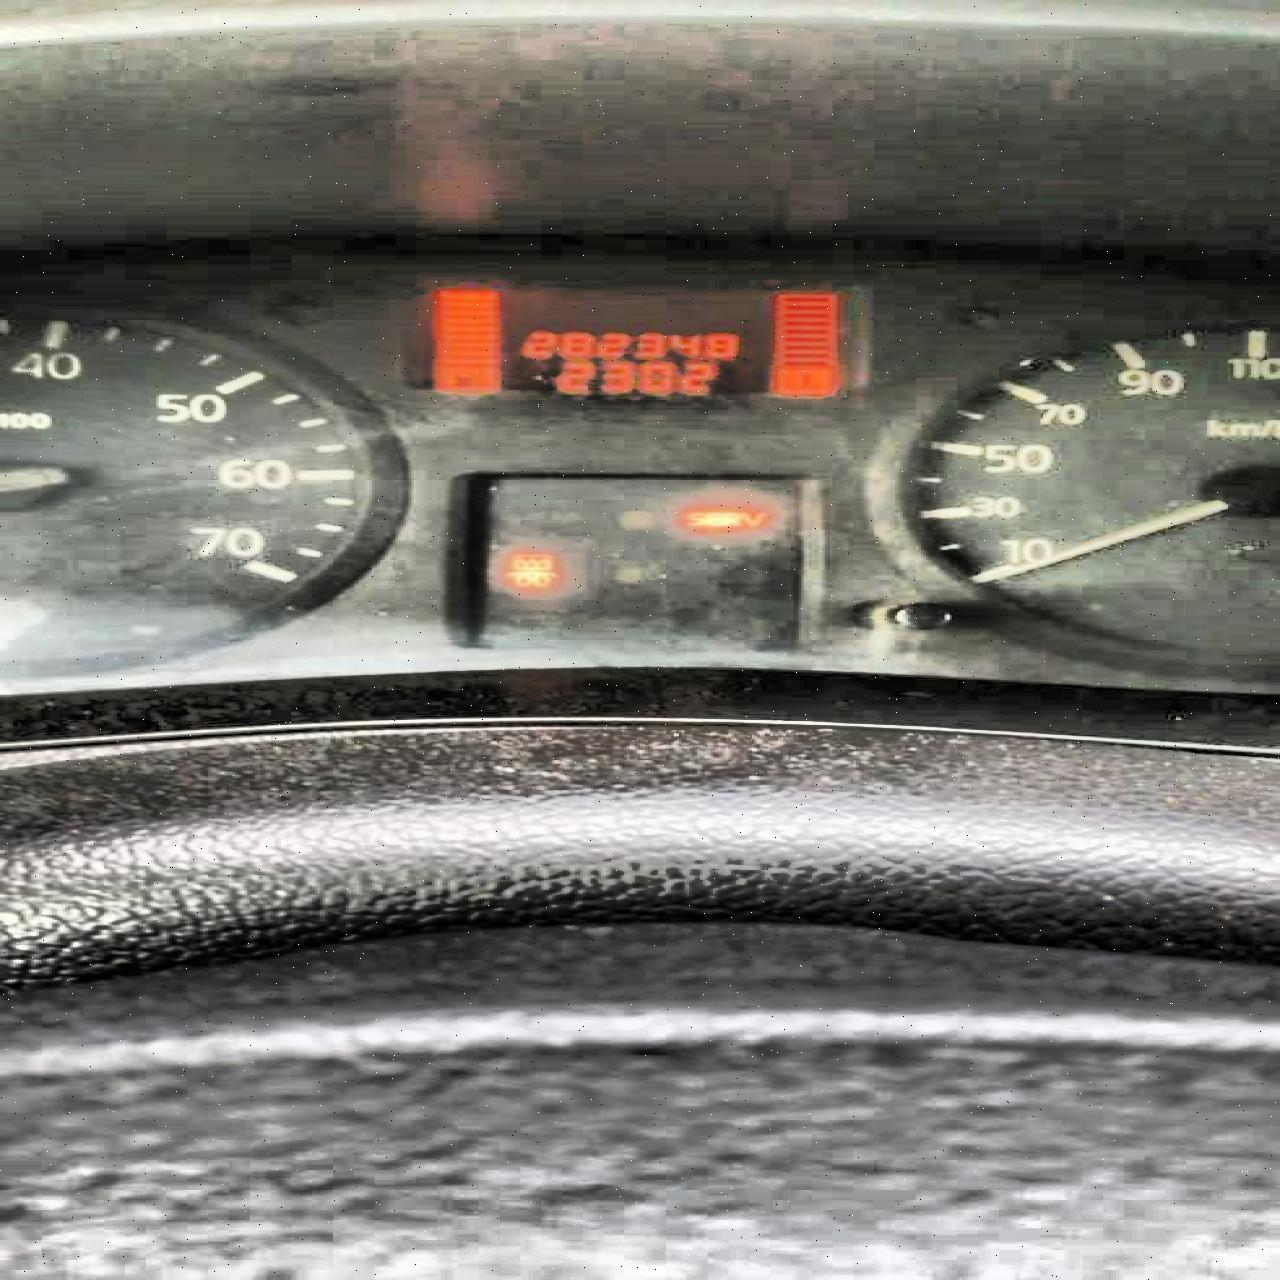0: (638, 361, 672, 392)
2: (557, 361, 591, 390), (679, 362, 713, 392), (595, 333, 627, 355), (523, 332, 554, 354)
3: (601, 361, 629, 390), (633, 333, 663, 356)
4: (666, 333, 697, 356)
8: (557, 331, 591, 356), (702, 333, 734, 358)
odometer: (390, 280, 874, 395)
